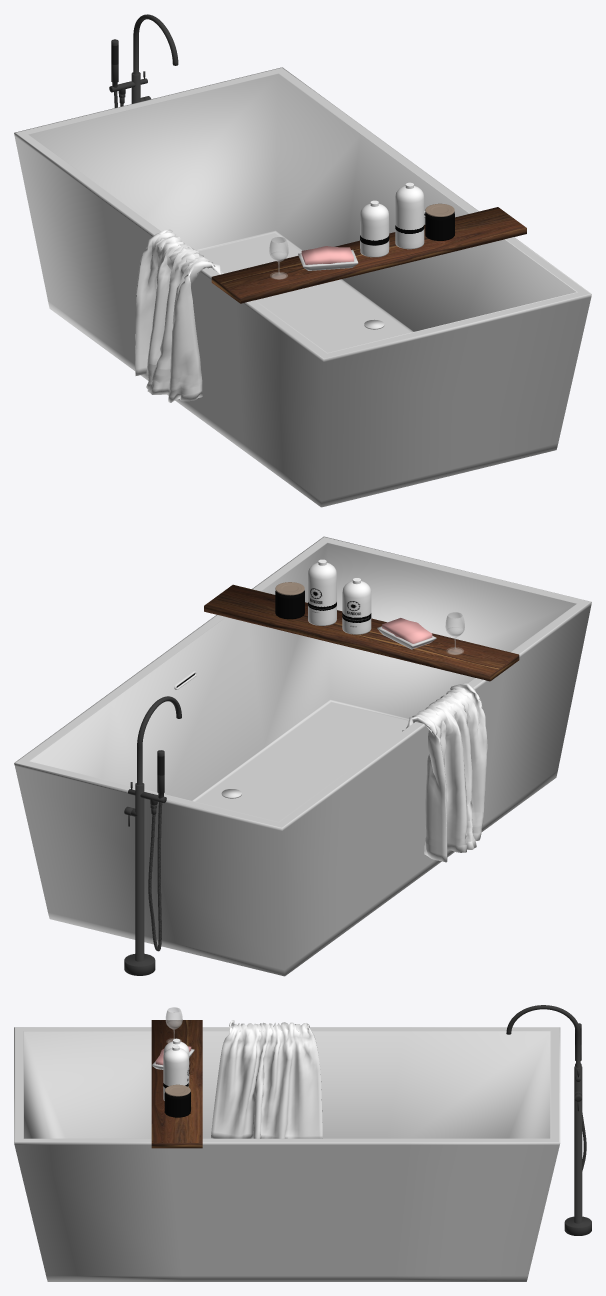
Rendered from Bathtub_draco.glb.
3 views of the same model, one above another, from view 1: azimuth 30°, elevation 25°; view 2: azimuth 150°, elevation 25°; view 3: azimuth 270°, elevation 25° (orthographic). The views are drawn at different scales.
Parts seen in each view (by area): view 1: Bathtub + set, Toalha, Cube.107, Vidro.001, Tub Faucet, Vidro, Sabonete, Pote; view 2: Bathtub + set, Toalha, Cube.107, Tub Faucet, Vidro.001, Vidro, Circle.008, Sabonete, Pote; view 3: Bathtub + set, Toalha, Cube.107, Tub Faucet, Vidro.001, Pote.
Part boxes in pixels (x1,y1,x2,y2): Bathtub + set: (14,67,591,507); Toalha: (135,229,223,402); Cube.107: (211,207,526,303); Vidro.001: (395,182,424,249); Tub Faucet: (109,14,178,103); Vidro: (360,200,389,257); Sabonete: (301,246,353,264); Pote: (425,212,454,240); Bathtub + set: (14,536,591,976); Toalha: (402,683,487,862); Cube.107: (204,584,519,681); Tub Faucet: (124,696,181,975); Vidro.001: (308,559,336,625); Vidro: (342,578,371,634); Circle.008: (148,802,162,951); Sabonete: (382,618,432,648); Pote: (275,590,304,619); Bathtub + set: (14,1027,560,1281); Toalha: (211,1020,322,1138); Cube.107: (151,1020,202,1148); Tub Faucet: (506,1005,591,1235); Vidro.001: (163,1045,188,1100); Pote: (164,1092,190,1117).
Size of the model in its own units: 7.09 by 5.58 by 12.97.
14 materials, 2 textured.
